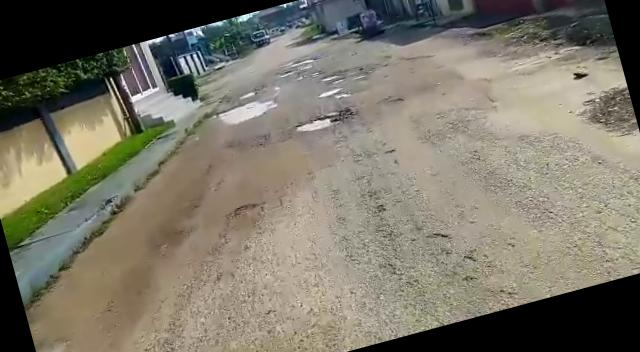pothole: (210, 93, 276, 128), (290, 108, 348, 138), (322, 68, 351, 84), (318, 85, 348, 100)
